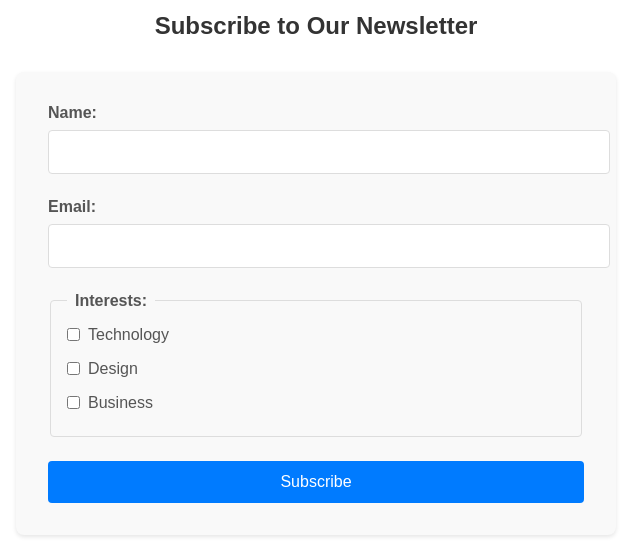
Test case: hides the form after successful submission
The width and height of the screenshot is (633, 554).
// Fill out and submit the form
Step 1. Type "Test User" into the field labelled "Name:" → (329, 152), box top-left (48, 130), bottom-right (610, 174)
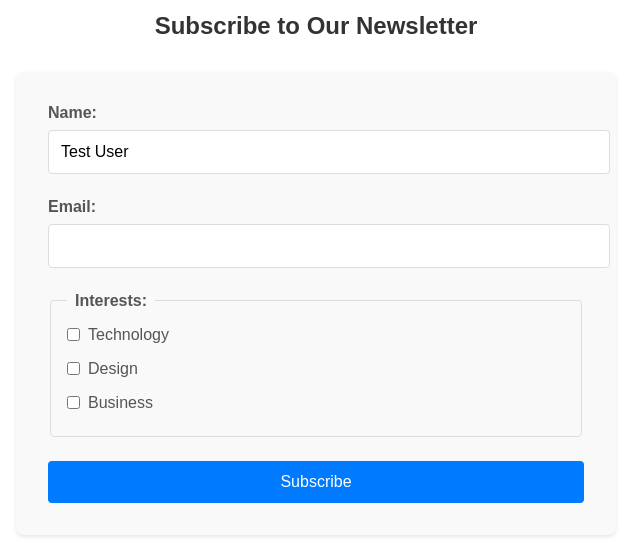
Step 2. Type "test@example.com" into the field labelled "Email:" → (329, 246), box top-left (48, 224), bottom-right (610, 268)
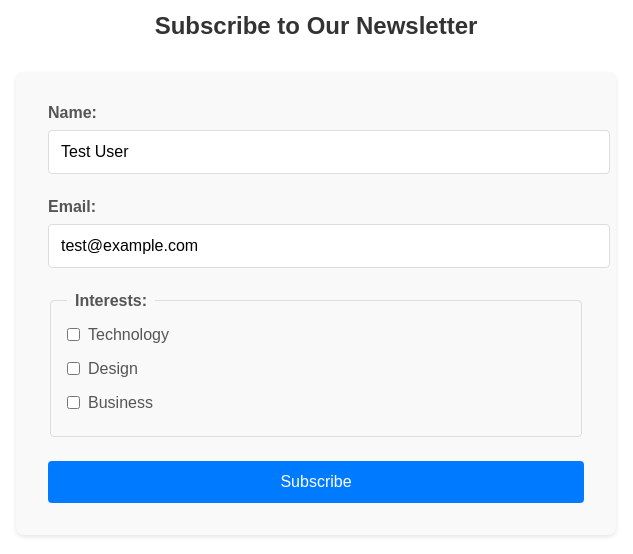
Step 3. Click the button "Subscribe" → (316, 482), box top-left (48, 461), bottom-right (584, 503)
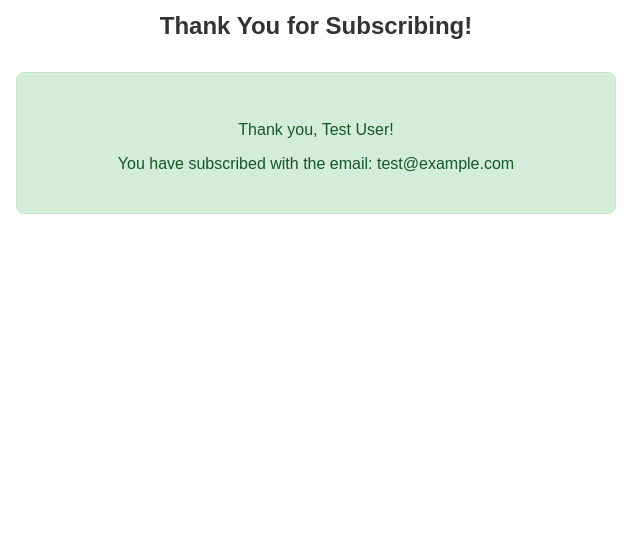
Expected: the label labelled "Name" is gone
